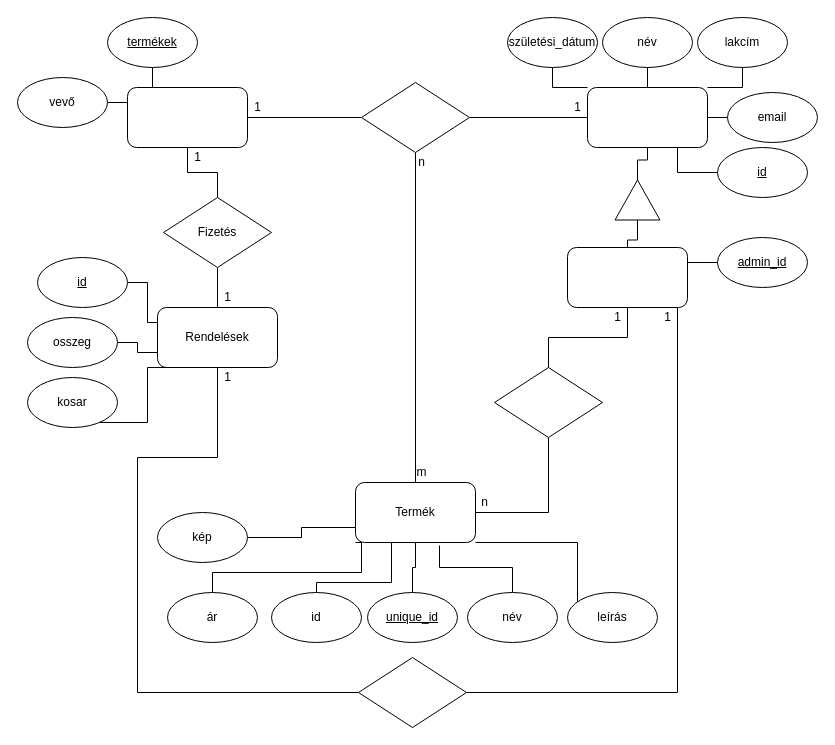
Image size: 835x745. Some labels were removed from this diagram. The box of each missing label's shape, as (x1, y1, x2, y2) in pixels:
Admin: (566, 246, 688, 308)
Belehelyez: (360, 82, 470, 152)
Felhasználó: (586, 86, 708, 148)
Hozzáad Módosít Létrehoz: (494, 366, 602, 438)
Kosár: (126, 86, 248, 148)
Lekérdez: (358, 656, 466, 728)
